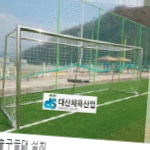goals: (1, 24, 144, 133)
